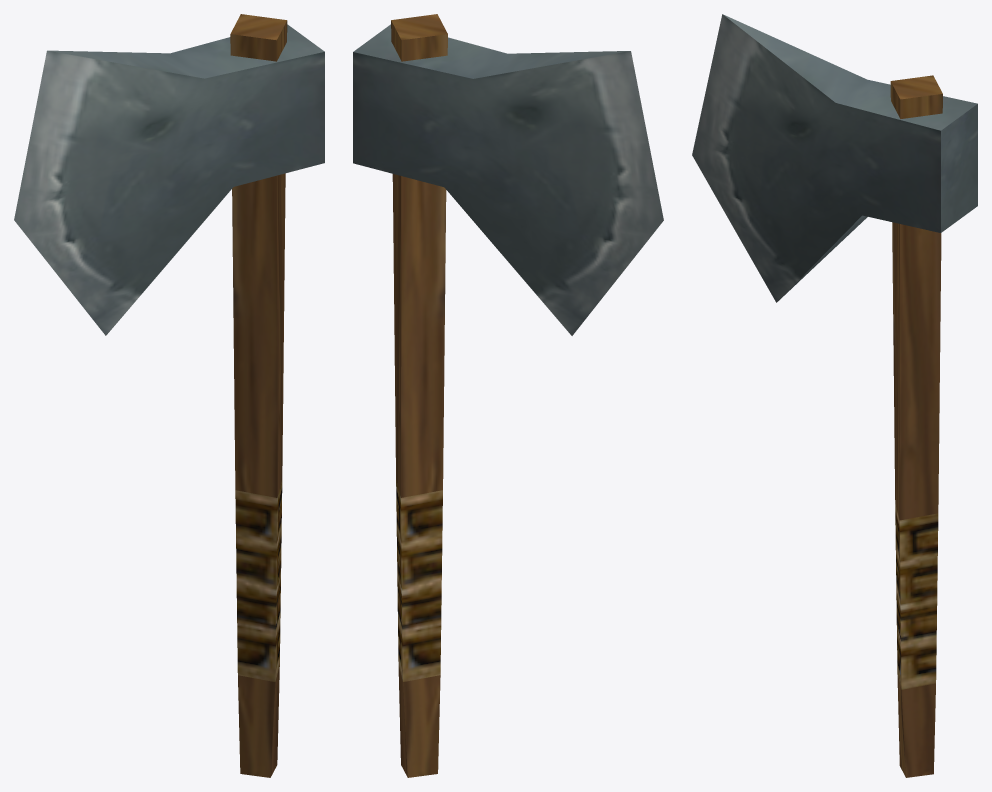
Rendered from Axe03.fbx.
3 renders of one model, left to right at view 1: azimuth 30°, elevation 25°; view 2: azimuth 150°, elevation 25°; view 3: azimuth 330°, elevation 25°, orthographic. The views are drawn at different scales.
Visible parts, largest first — view 1: Axe03; view 2: Axe03; view 3: Axe03.
Part boxes in pixels (box(x1,y1,x2,y2)): Axe03: box(14, 14, 324, 777); Axe03: box(353, 14, 663, 777); Axe03: box(692, 14, 977, 777).
Size of the model in its own units: 0.9355 by 2.37 by 0.2244.
